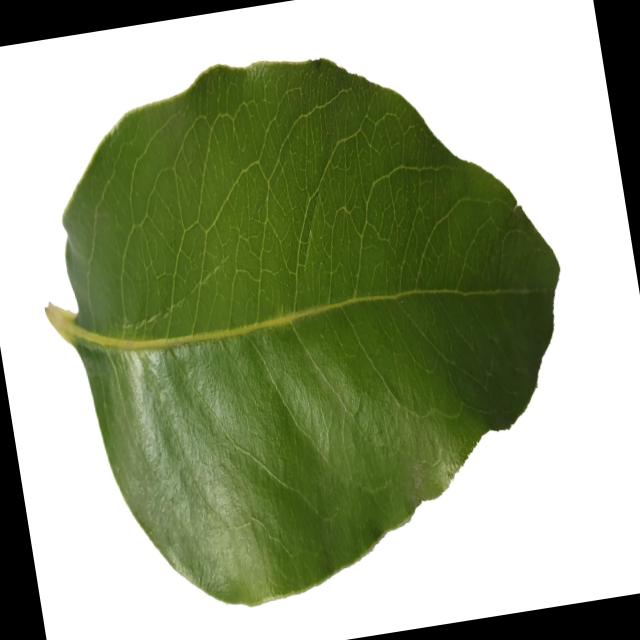Medicinal-Sandalwood: (11, 16, 606, 632)
